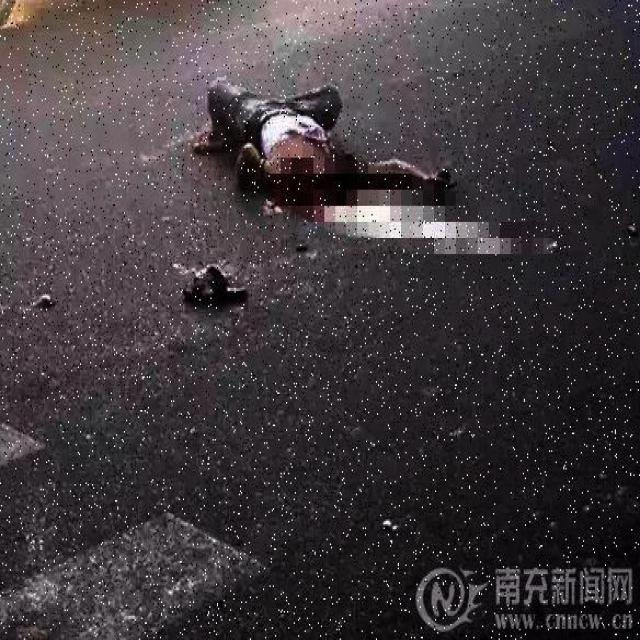fall: (192, 66, 448, 196)
